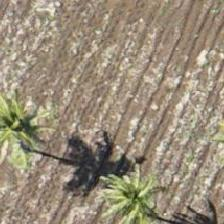coconut_tree: (98, 158, 188, 223), (0, 77, 45, 167)
